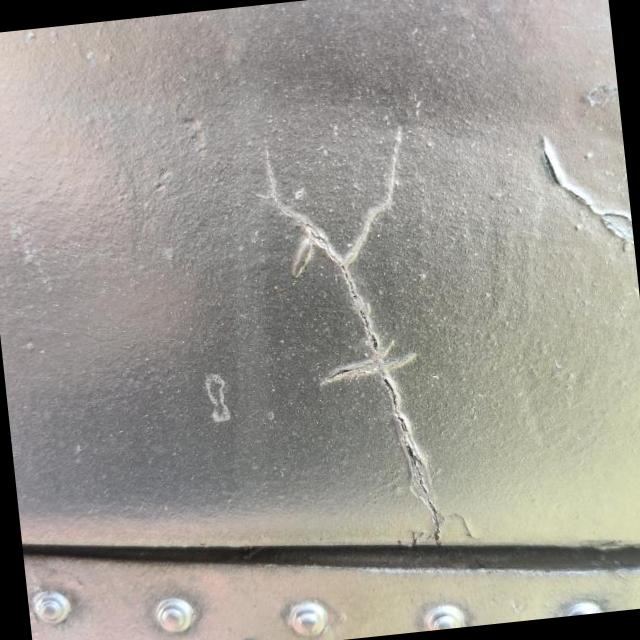Crack: (265, 128, 443, 545)
